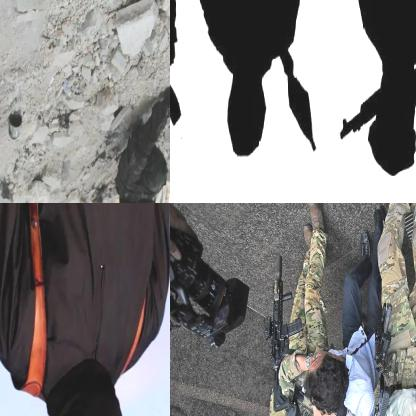rifle: (334, 31, 415, 157), (261, 251, 305, 415), (353, 291, 398, 415), (278, 49, 319, 152), (170, 35, 184, 202)
